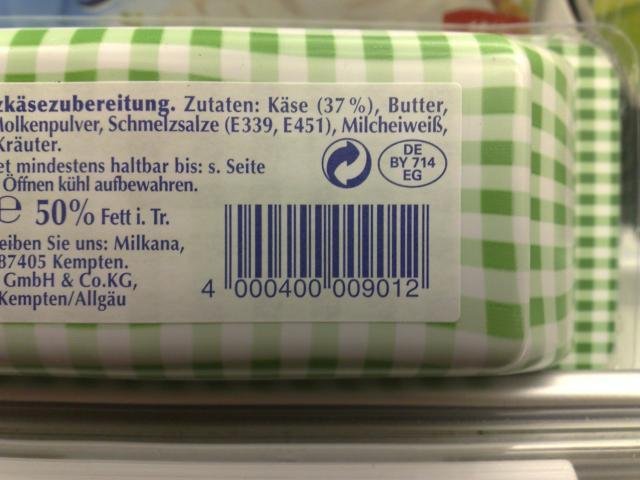Barcode: (196, 194, 445, 310)
